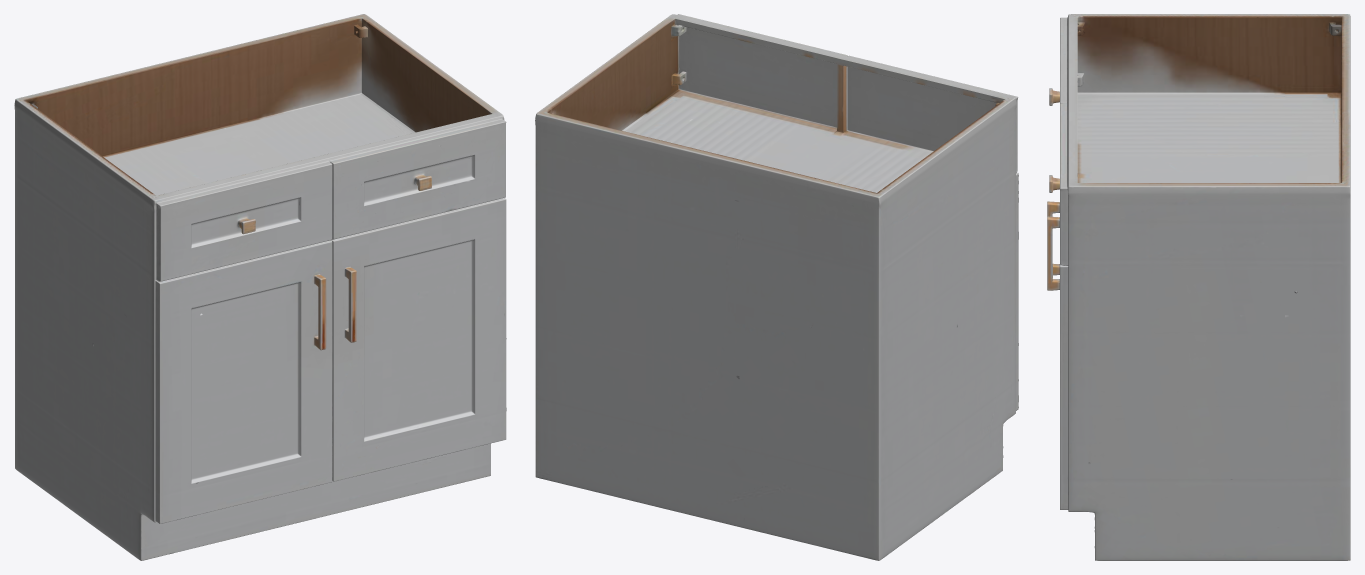
Rendered from cabinet_base.glb.
The picture shows the model from 3 angles, left to right: view 1: azimuth 30°, elevation 25°; view 2: azimuth 150°, elevation 25°; view 3: azimuth 270°, elevation 25°; orthographic projection. The views are drawn at different scales.
Visible parts, largest first — view 1: material; view 2: material; view 3: material.
Boxes of the visible parts, x1,y1,x2,y2 form: material: (14,14,506,560); material: (535,14,1018,560); material: (1047,14,1350,560).
Bounding box in the file's own units: 0.7533 × 0.7587 × 0.5571.
1 material, 1 textured.
